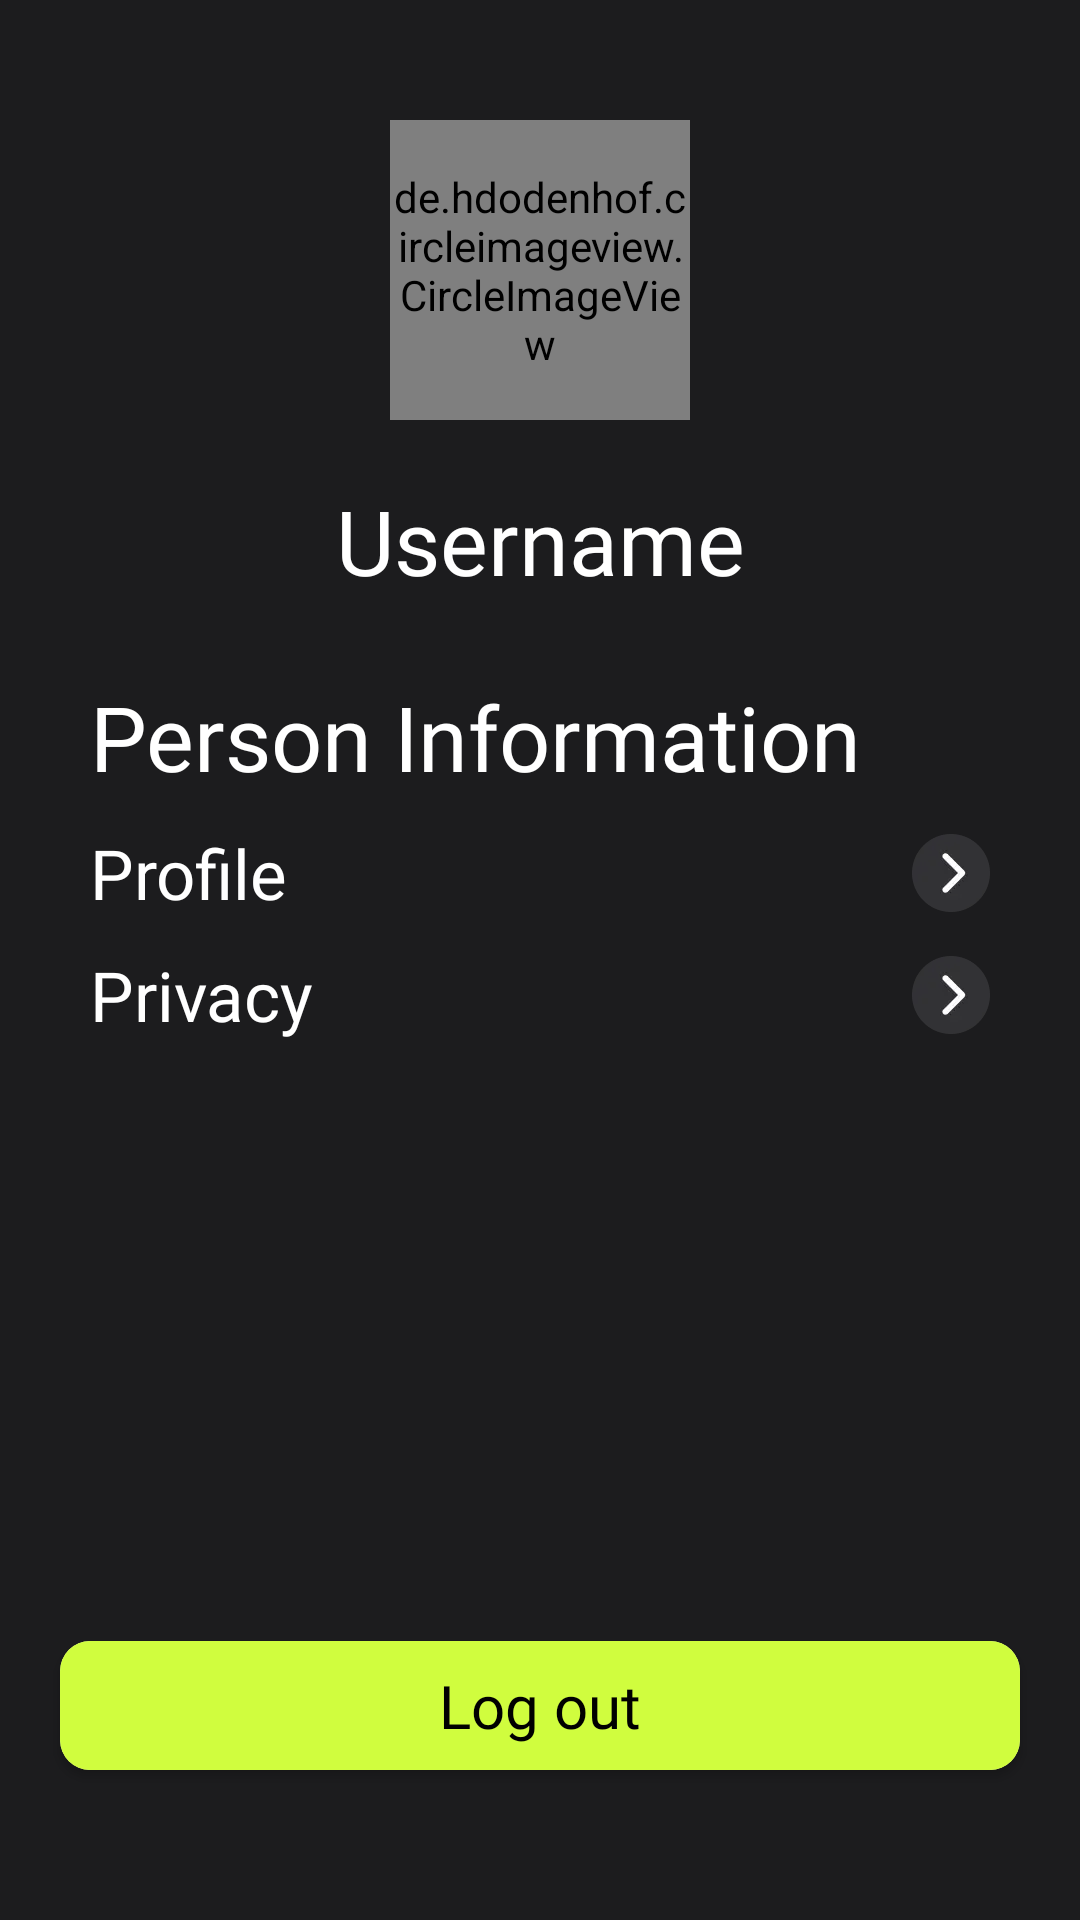

Icon bounding boxes for this 1080*1920 phone screenshot, format box(x1, y1, x2, y2):
next: box(912, 834, 990, 912), box(912, 956, 990, 1034)
